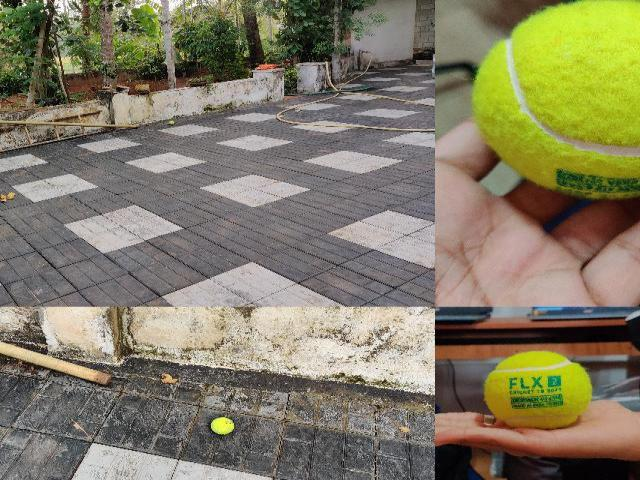tennis-ball: (473, 0, 639, 198), (484, 351, 592, 426), (210, 416, 234, 434), (168, 121, 174, 125)
